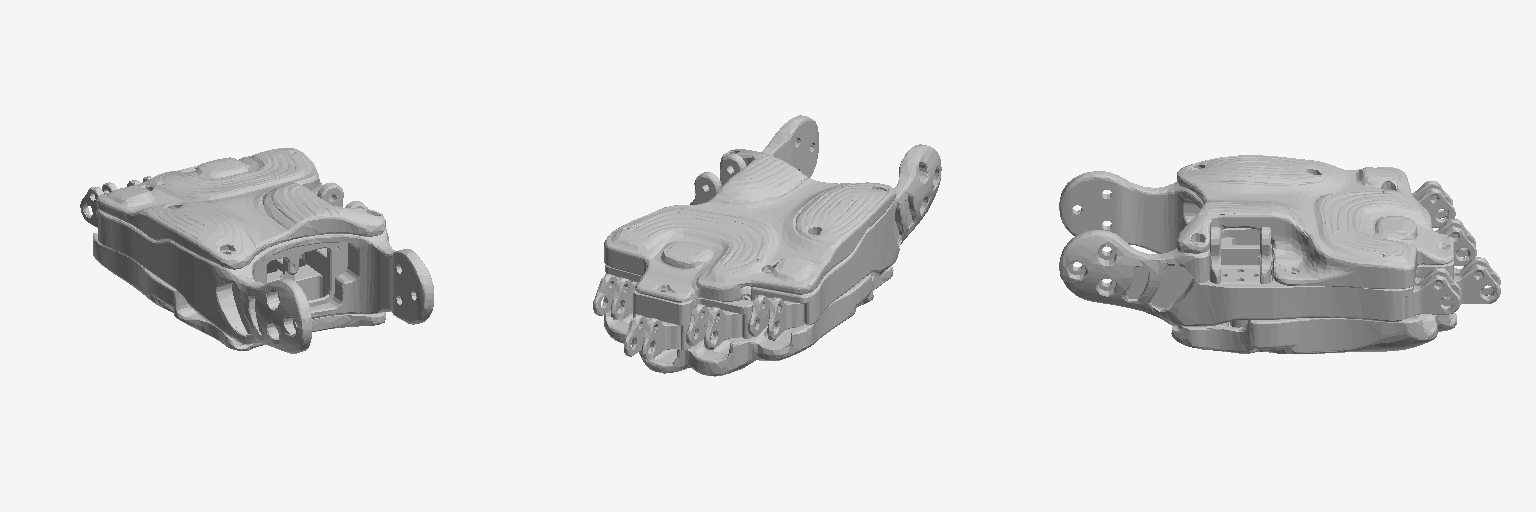
File: wristRollRight.obj
3 renders of one model, left to right at view 1: azimuth 30°, elevation 25°; view 2: azimuth 150°, elevation 25°; view 3: azimuth 270°, elevation 25°, orthographic.
Parts seen in each view (by area): view 1: wristRollRight; view 2: wristRollRight; view 3: wristRollRight.
Boxes of the visible parts, box(x1,y1,x2,y2) form: wristRollRight: box(80, 148, 433, 353); wristRollRight: box(593, 115, 941, 376); wristRollRight: box(1059, 155, 1500, 353).
Size of the model in its own units: 0.0771 by 0.0464 by 0.145.